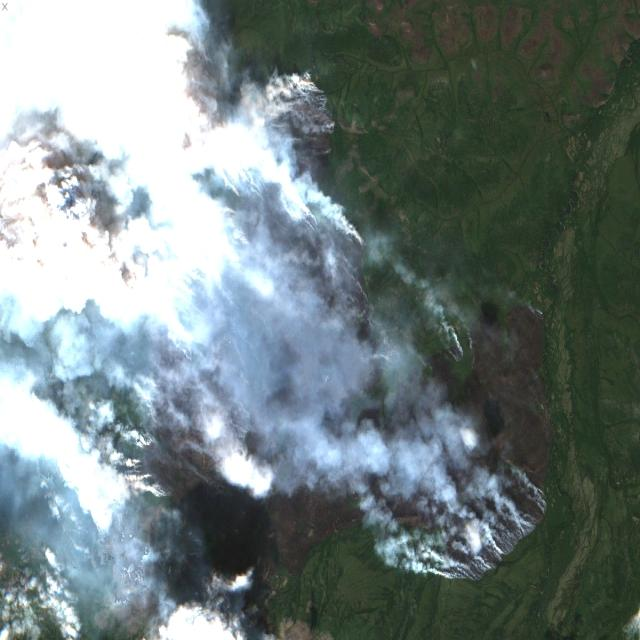fire: (63, 56, 556, 640)
